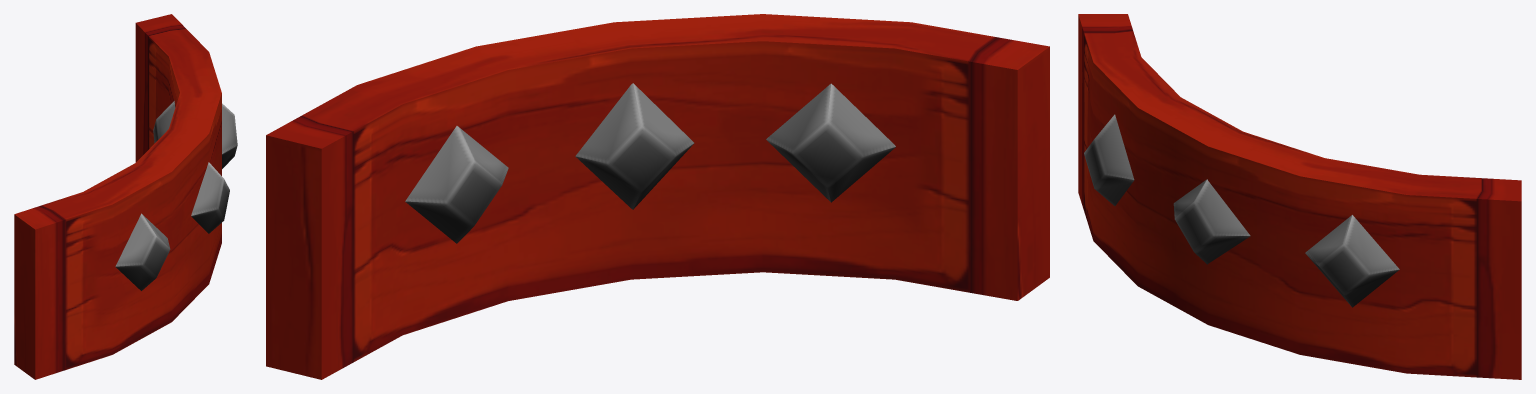
Rendered from arched_fence_red_02.fbx.
The picture shows the model from 3 angles, left to right: view 1: azimuth 30°, elevation 25°; view 2: azimuth 150°, elevation 25°; view 3: azimuth 270°, elevation 25°; orthographic projection. The views are drawn at different scales.
Visible parts, largest first — view 1: arched_fence_red_02; view 2: arched_fence_red_02; view 3: arched_fence_red_02.
Boxes of the visible parts, bbox=[...] form: arched_fence_red_02: bbox=[14, 14, 237, 379]; arched_fence_red_02: bbox=[266, 14, 1049, 379]; arched_fence_red_02: bbox=[1078, 14, 1521, 379].
Bounding box in the file's own units: 90 × 40 × 90.
